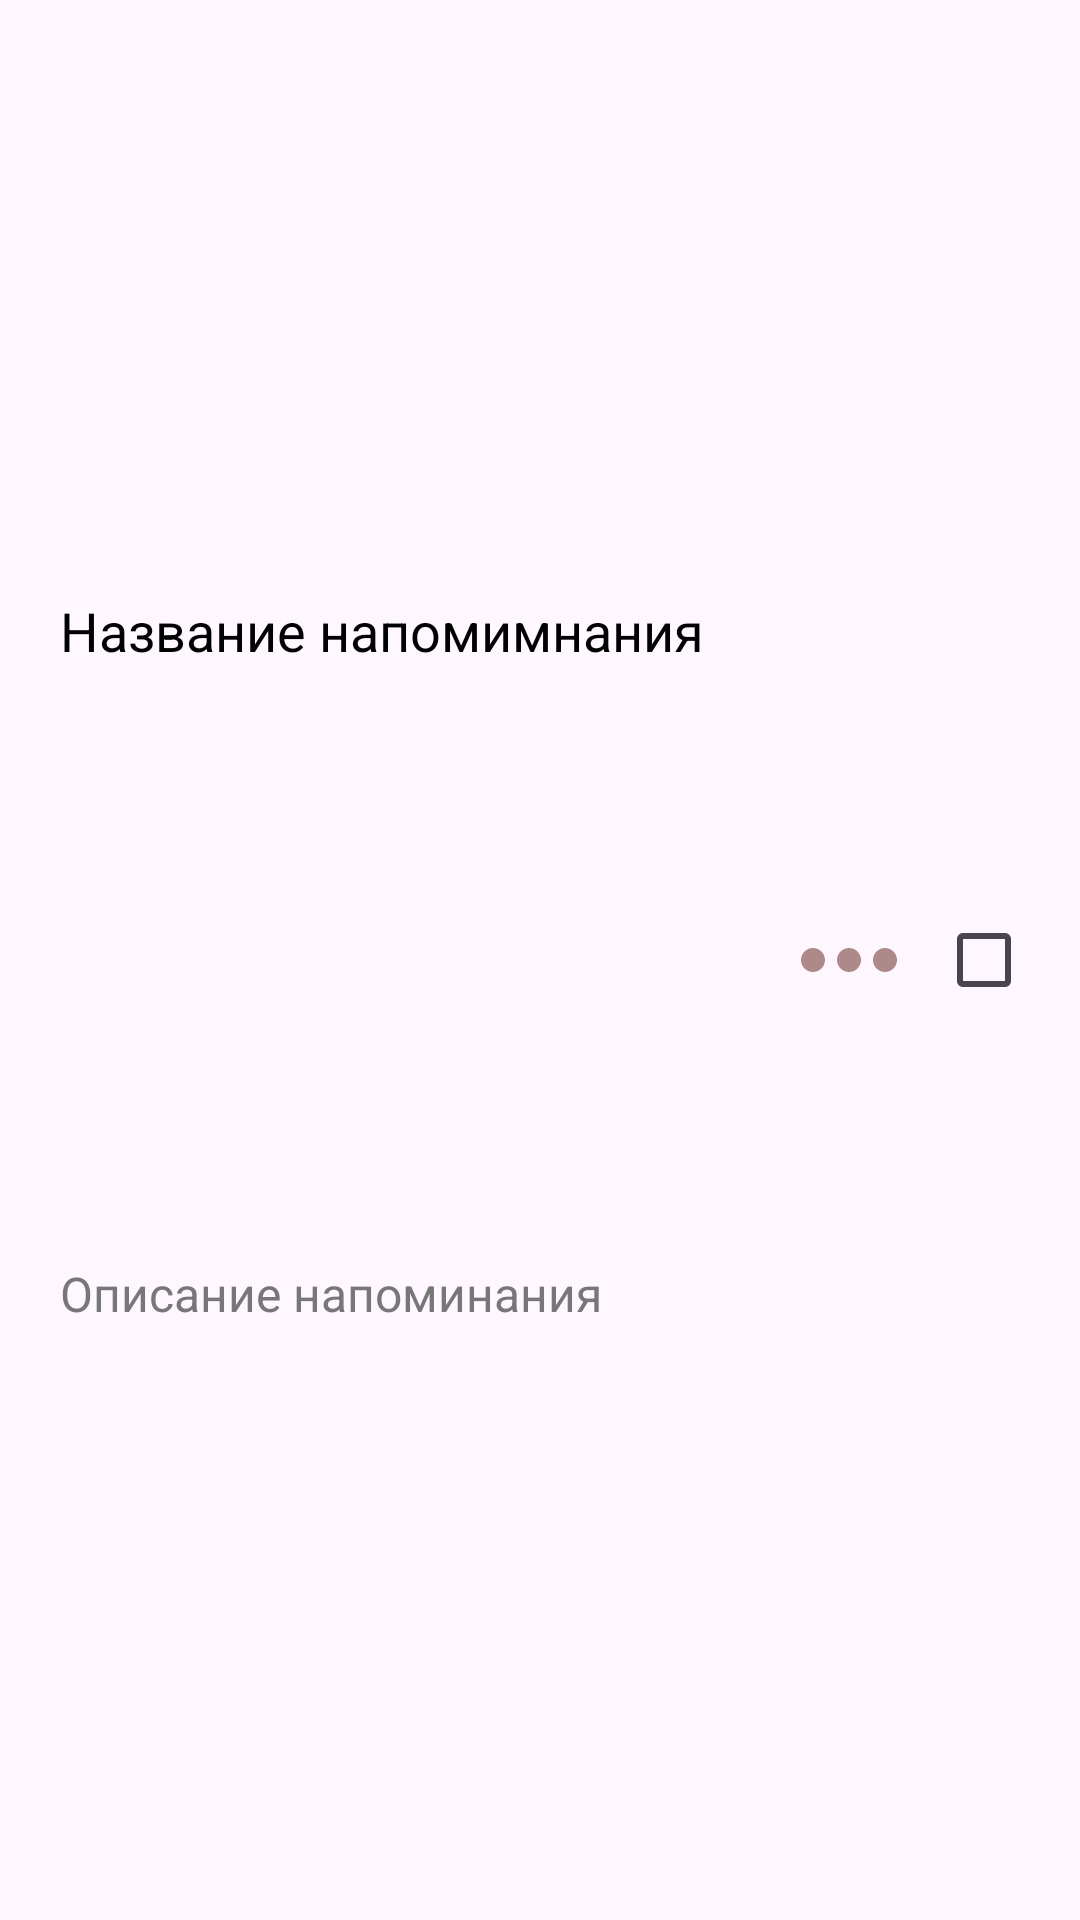

Locate icon controls on the screen. Image size 1080×1920, boxes as [left=x1, top=y1, right=x2, bottom=y2].
more horiz: [left=801, top=948, right=897, bottom=972]
